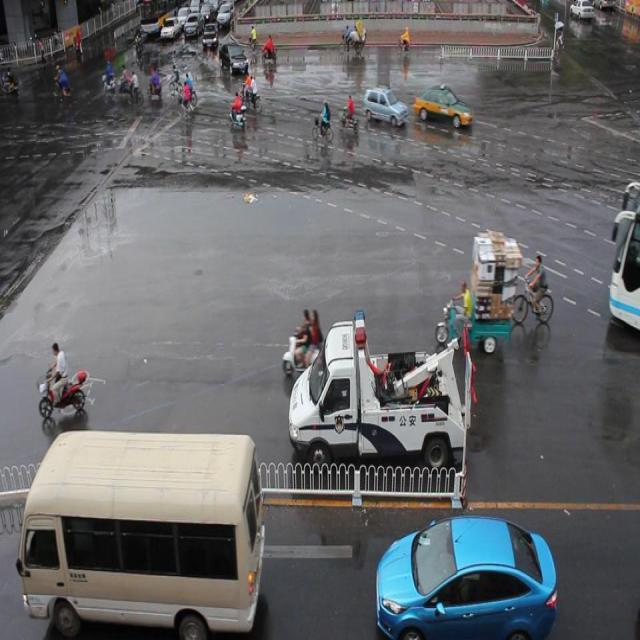bus: (288, 308, 476, 477)
car: (374, 513, 556, 640), (414, 84, 474, 128), (364, 85, 407, 127), (218, 44, 248, 76), (203, 20, 218, 52)
truck: (17, 428, 266, 640)
